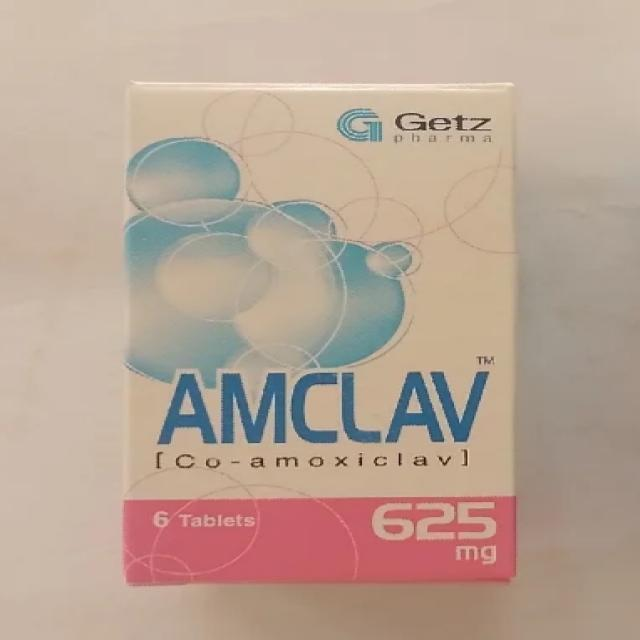drug-name: (157, 368, 492, 444)
